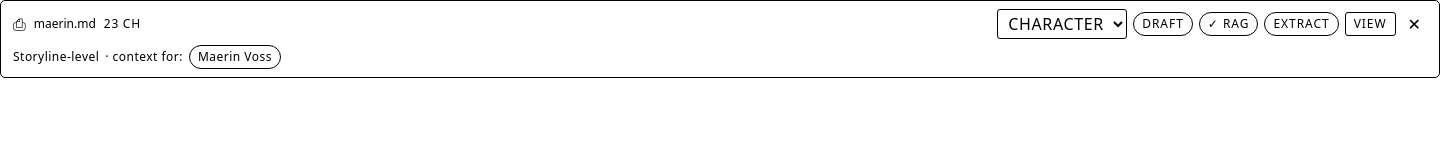
it: DocumentsTable › expands to view the document contents
Step 1. Click the button with aria-label "view contents of maerin.md" → [1370, 24], box [1345,12,1396,36]
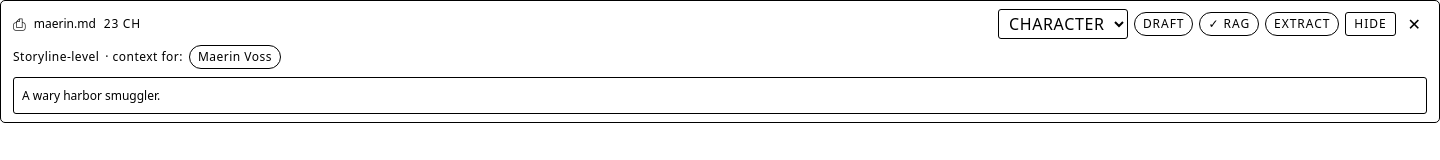
expect the text "A wary harbor smuggler." is shown: met, box [13,77,1427,114]
